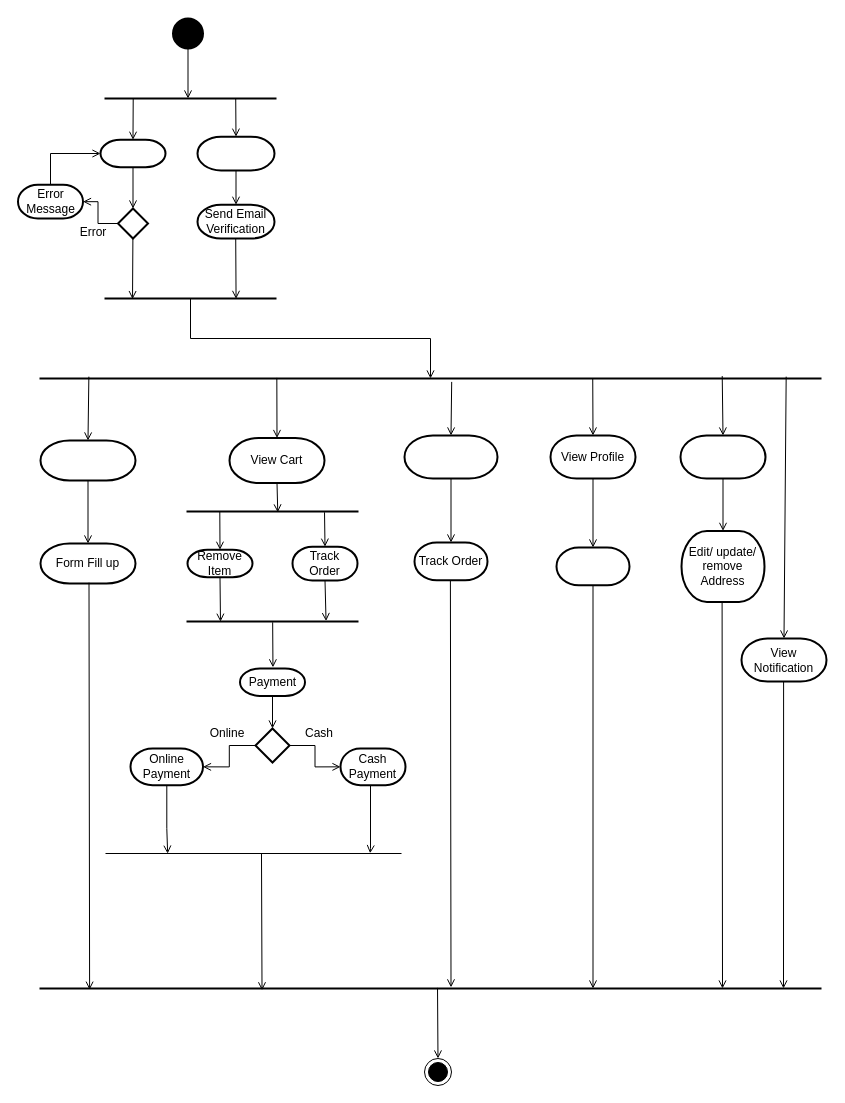
This 845x1103 diagram has some shape labels left out. Each missing label, with the box of its shape:
Add Address: (679, 434, 766, 479)
Login: (99, 138, 166, 168)
Registration: (196, 135, 275, 171)
Send Repair Request: (39, 439, 136, 481)
Update Profile: (555, 546, 630, 586)
View history: (403, 434, 498, 479)
